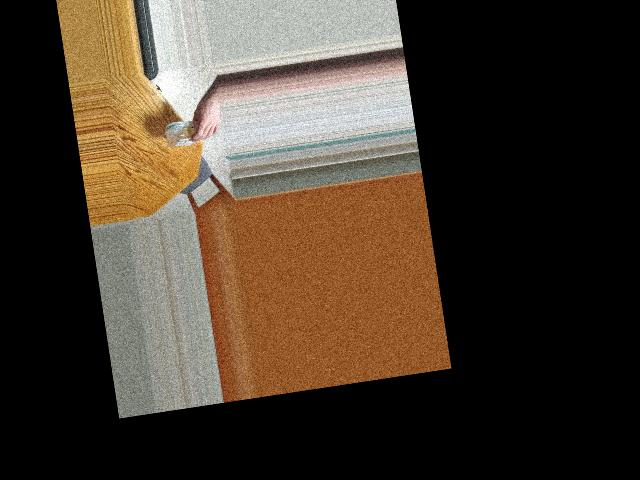cheese: (158, 108, 209, 155)
